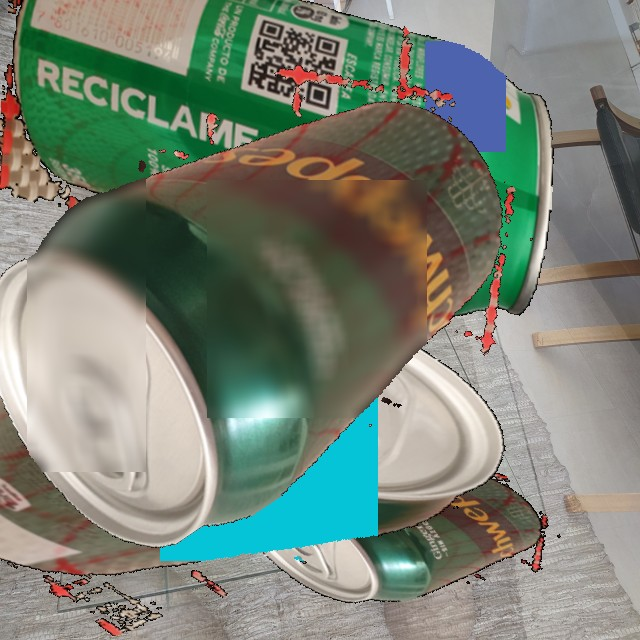schweppes: (0, 65, 589, 640), (0, 0, 540, 597), (200, 349, 591, 640)
sprite: (0, 0, 564, 347)
